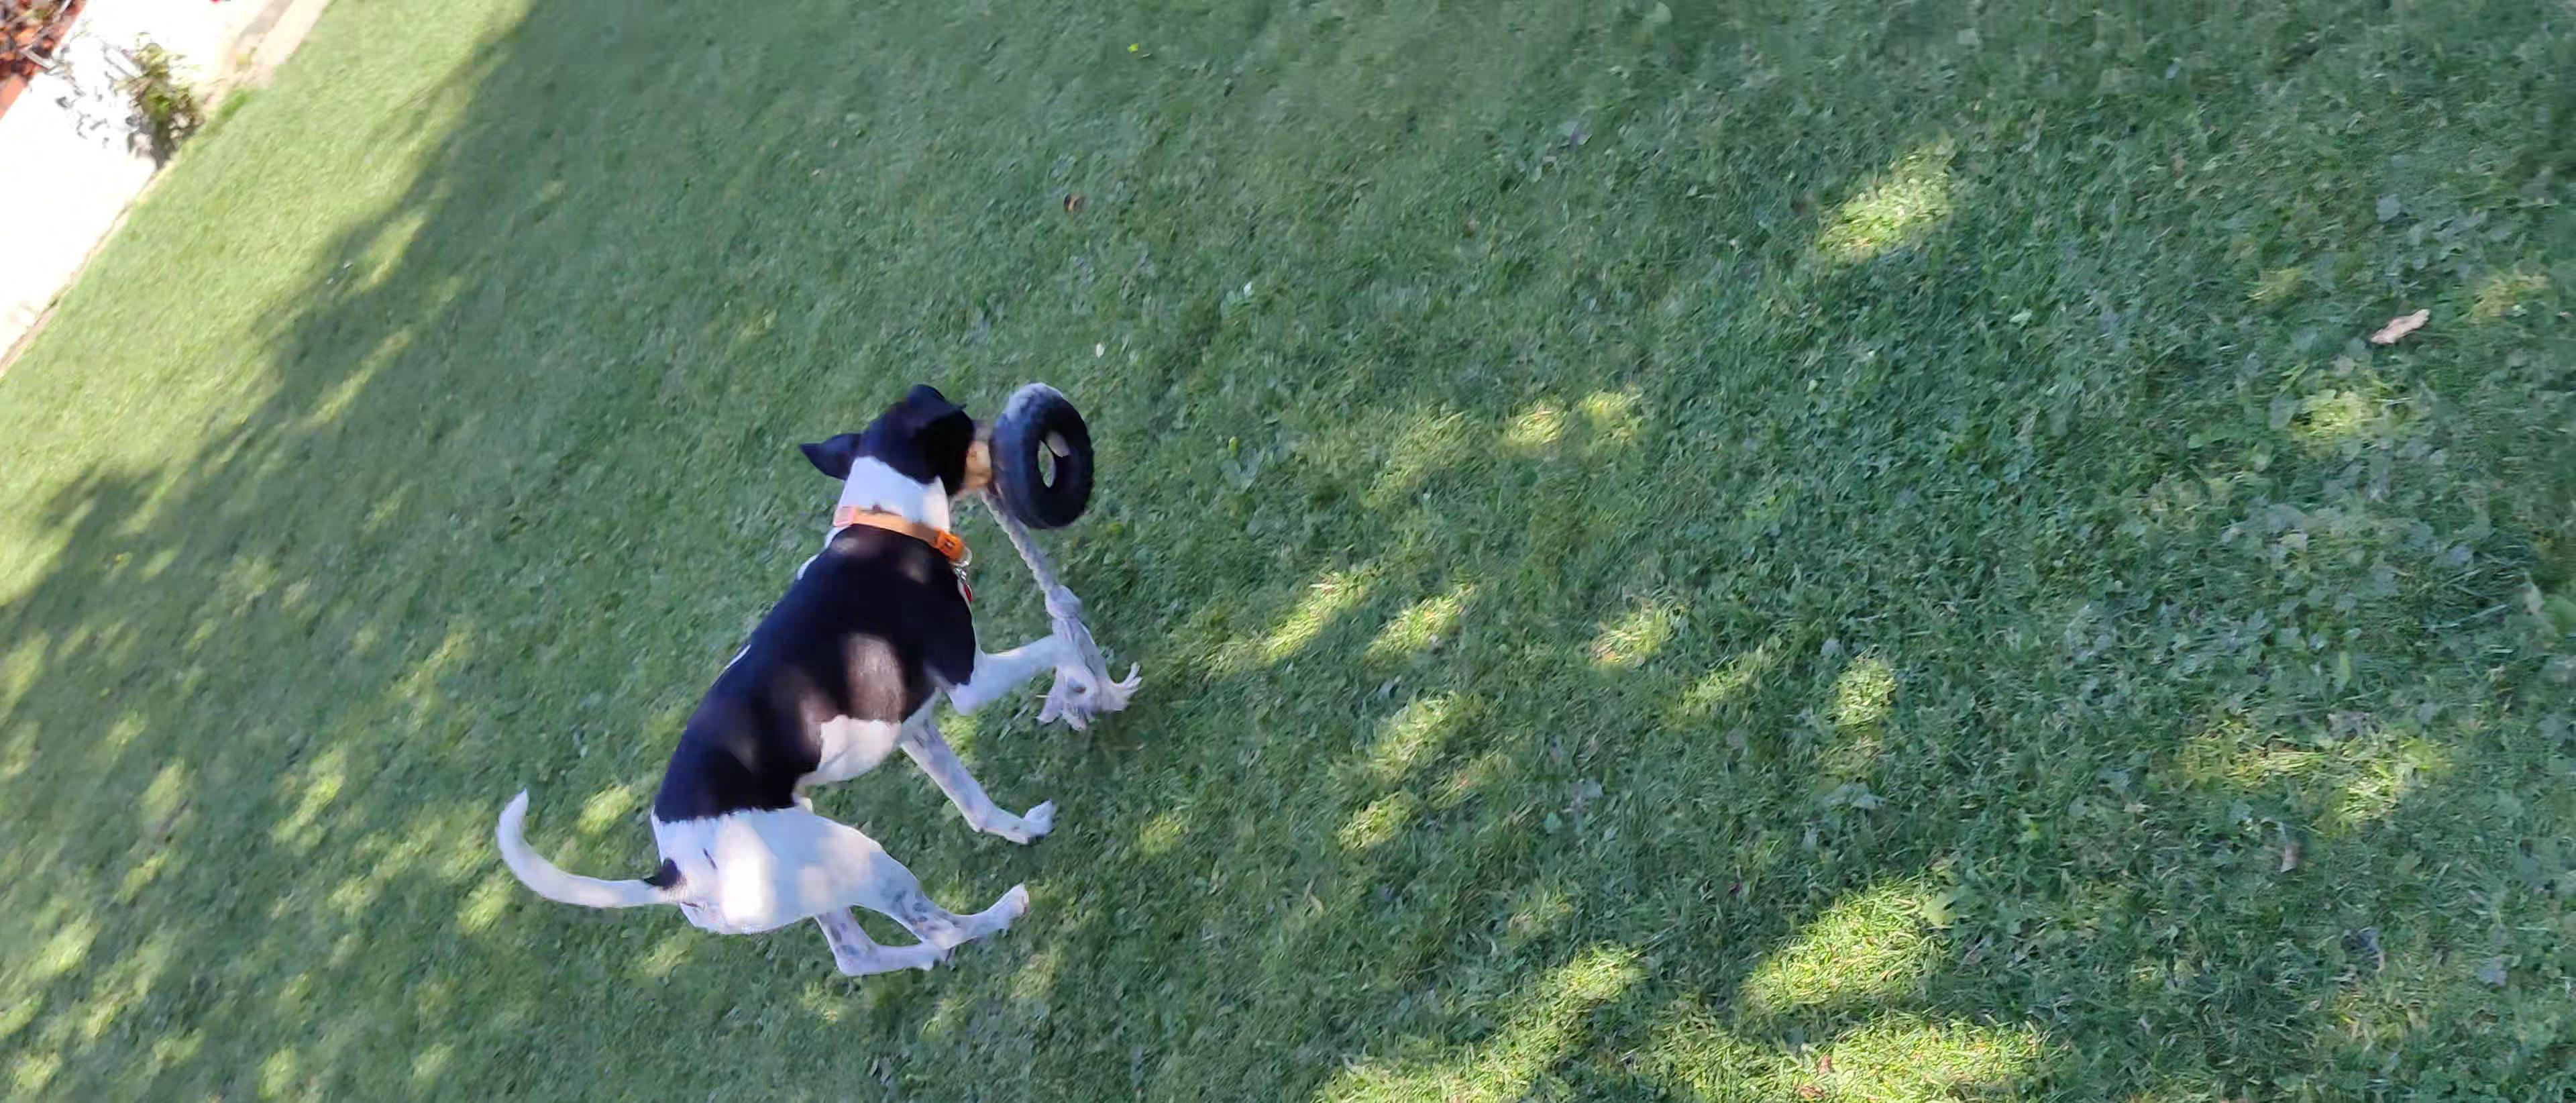Dog: (480, 376, 1099, 976)
